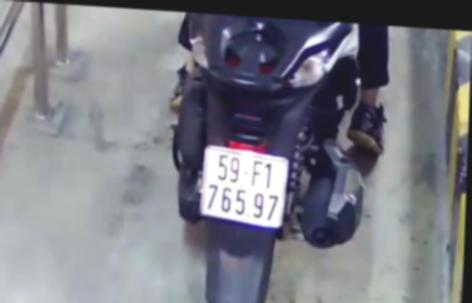License_Plate: (189, 141, 294, 234)
